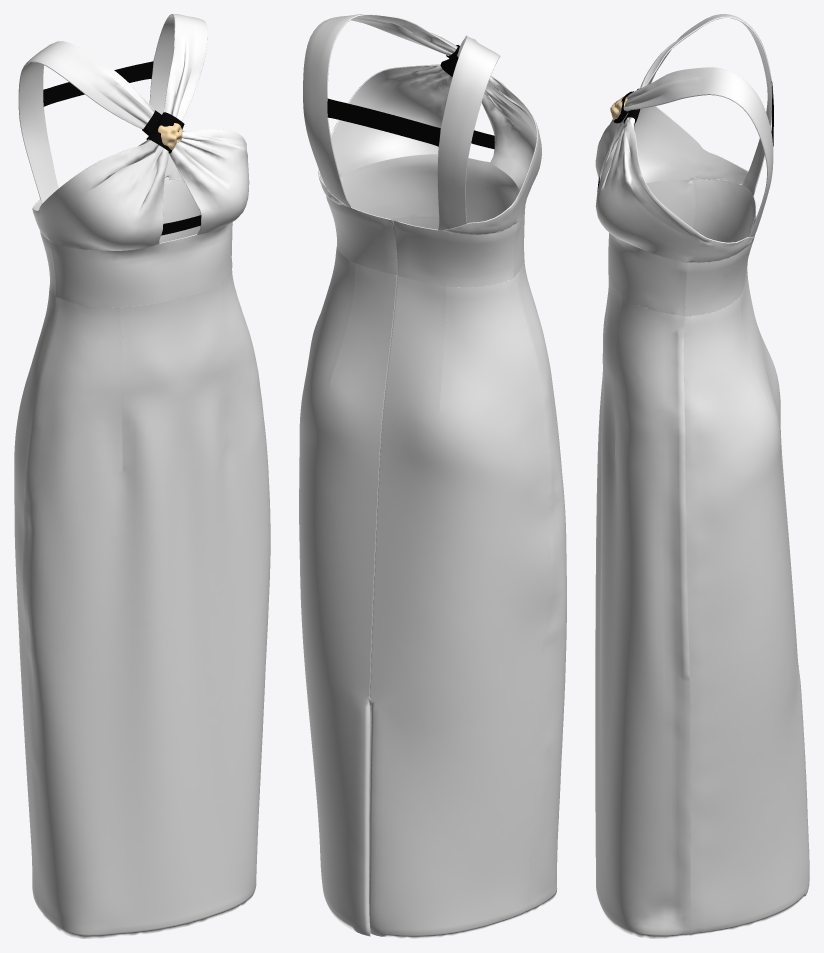
The model's file is garment.glb.
3 renders of one model, left to right at view 1: azimuth 30°, elevation 25°; view 2: azimuth 150°, elevation 25°; view 3: azimuth 270°, elevation 25°, orthographic. The views are drawn at different scales.
Parts seen in each view (by area): view 1: body-7, body-4, body-9, body-1, body-6, body; view 2: body-6, body-5, body-1, body, body-7, body-9, body-4; view 3: body-5, body-7, body-1, body-9, body-4, body, body-6.
Part boxes in pixels (<box>): body-7: <box>21,271,270,938</box>; body-4: <box>32,14,207,250</box>; body-9: <box>43,61,232,307</box>; body-1: <box>18,14,249,243</box>; body-6: <box>14,286,55,912</box>; body: <box>18,62,200,296</box>; body-6: <box>369,276,549,938</box>; body-5: <box>299,246,396,936</box>; body-1: <box>318,14,536,274</box>; body: <box>318,36,516,700</box>; body-7: <box>514,259,566,913</box>; body-9: <box>327,45,525,277</box>; body-4: <box>303,14,541,234</box>; body-5: <box>684,275,809,936</box>; body-7: <box>595,277,690,938</box>; body-1: <box>595,14,773,316</box>; body-9: <box>597,81,773,932</box>; body-4: <box>595,67,773,932</box>; body: <box>610,17,798,666</box>; body-6: <box>747,272,792,584</box>.
Bounding box in the file's own units: 0.4834 × 1.65 × 0.3774.
Materials: 1 (1 with a texture image).
